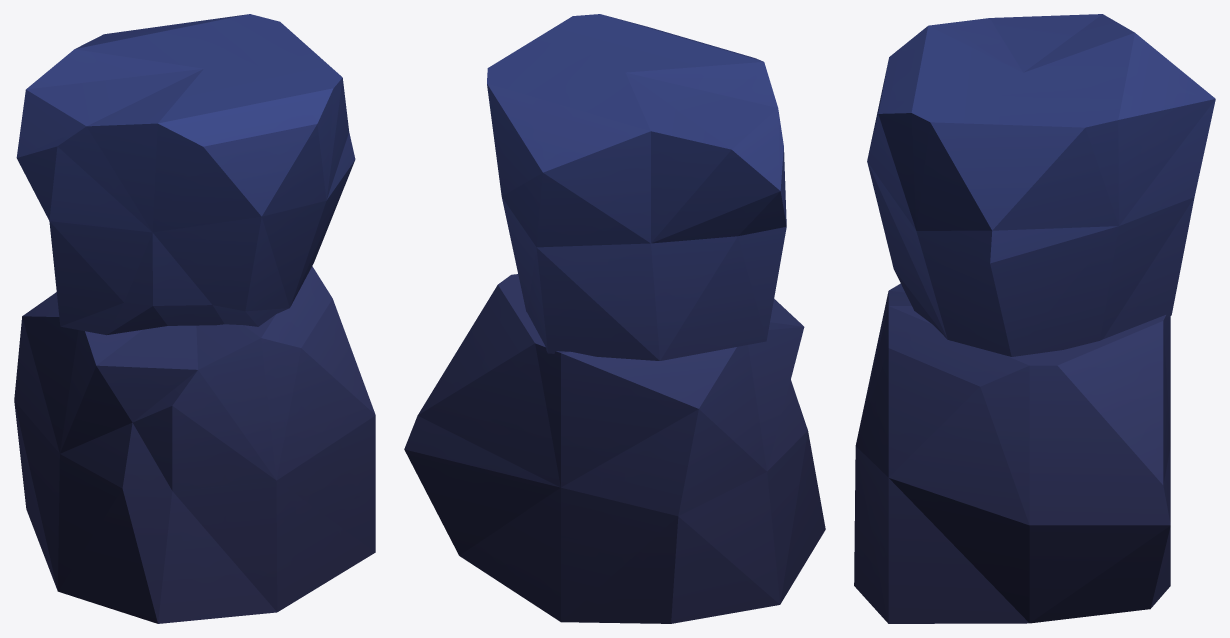
Rendered from rockColumn1.fbx.
3 views of the same model, side by side, from view 1: azimuth 30°, elevation 25°; view 2: azimuth 150°, elevation 25°; view 3: azimuth 270°, elevation 25° (orthographic). The views are drawn at different scales.
Parts seen in each view (by area): view 1: rockColumn1; view 2: rockColumn1; view 3: rockColumn1.
Part boxes in pixels (left/top/right/bottom): rockColumn1: left=14, top=14, right=375, bottom=623; rockColumn1: left=404, top=14, right=825, bottom=623; rockColumn1: left=854, top=14, right=1215, bottom=623.
Bounding box in the file's own units: 138 × 202 × 128.
